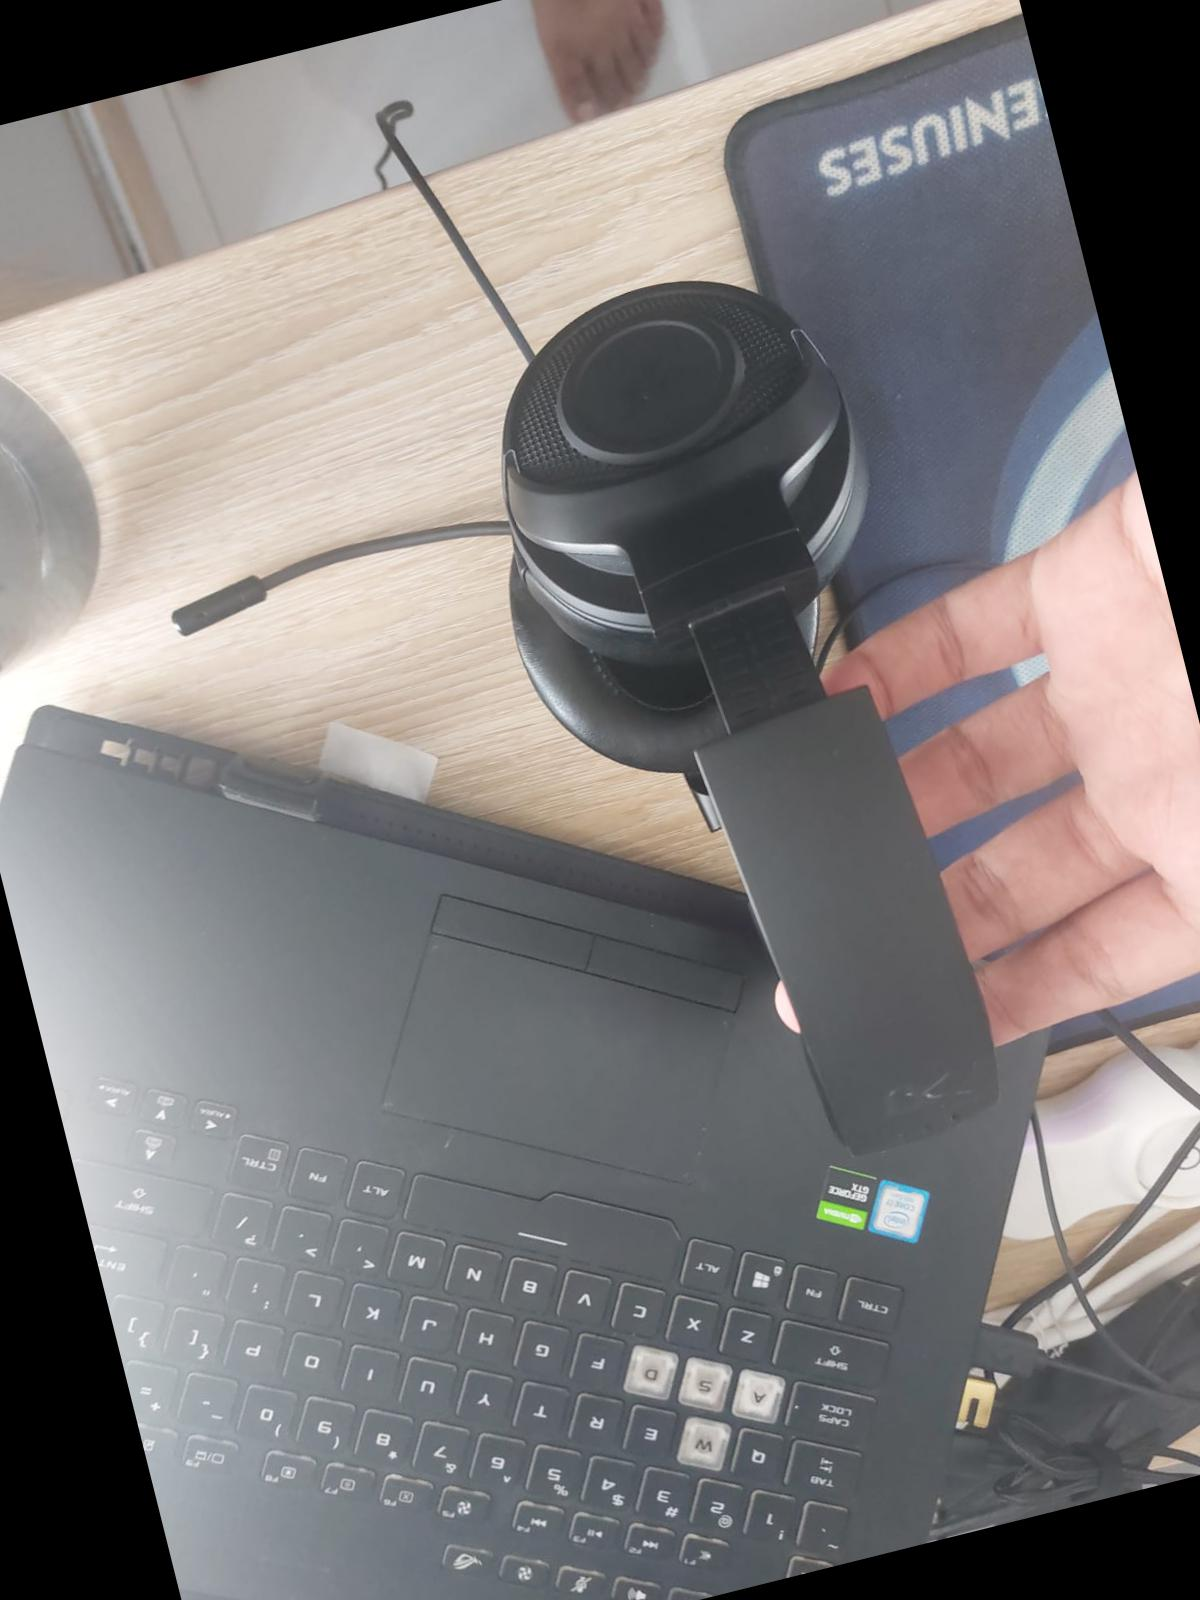Headset: (110, 231, 1082, 1314)
